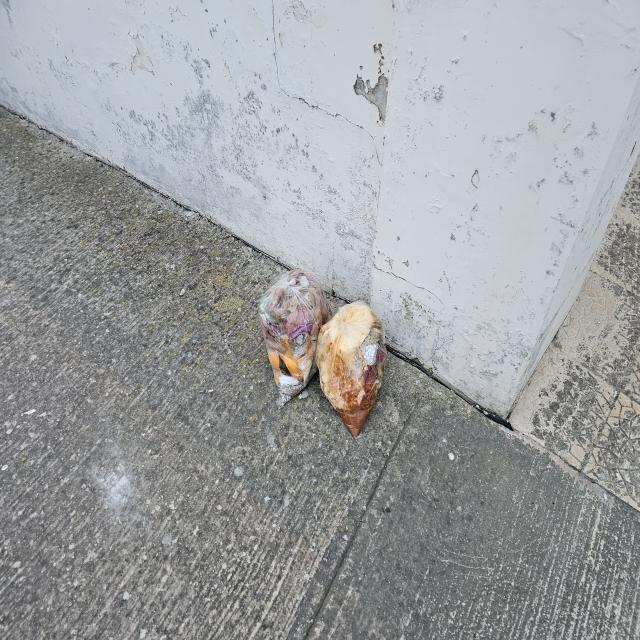white_bag: (317, 296, 392, 440), (258, 264, 331, 411)
